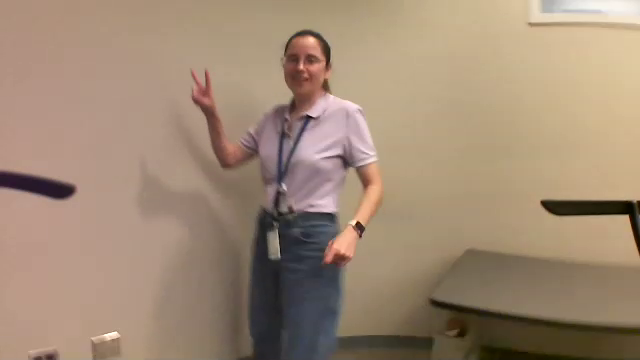peace: (186, 64, 217, 112)
